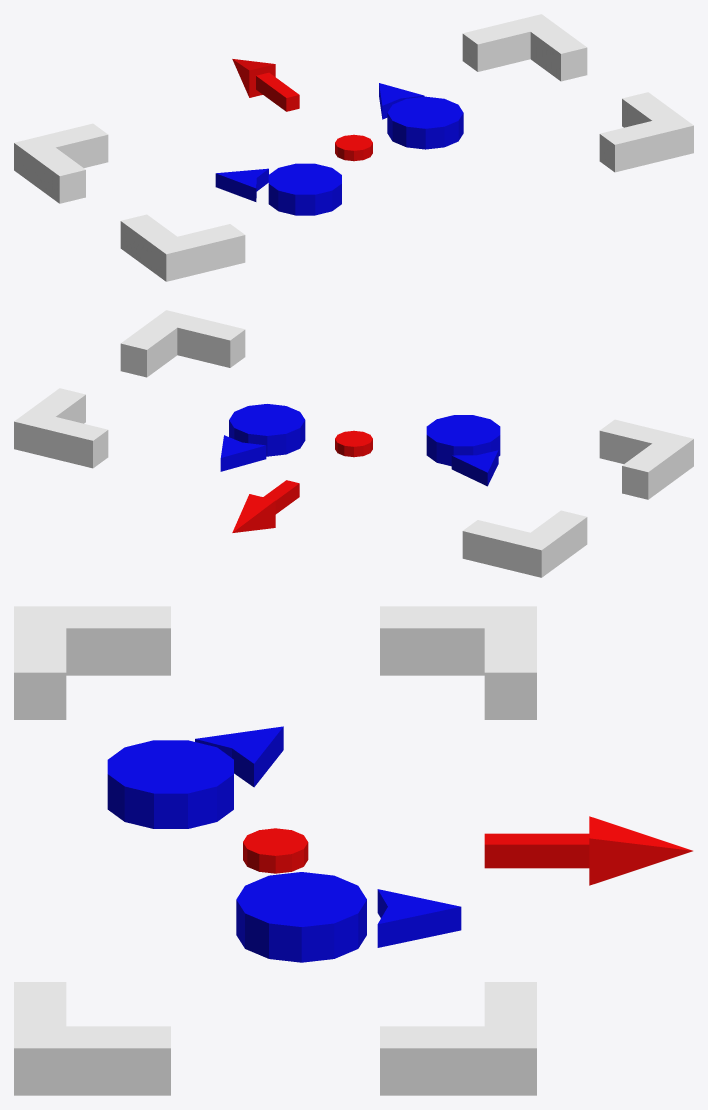
3 renders of one model, top to bottom at view 1: azimuth 30°, elevation 25°; view 2: azimuth 150°, elevation 25°; view 3: azimuth 270°, elevation 25°, orthographic. The views are drawn at different scales.
Parts seen in each view (by area): view 1: fo_i_frame_Cube.003, Plane.013_Plane.023, Plane.015_Plane.025, arrow_Cube.004, Plane.014_Plane.024; view 2: fo_i_frame_Cube.003, Plane.015_Plane.025, Plane.013_Plane.023, arrow_Cube.004, Plane.014_Plane.024; view 3: fo_i_frame_Cube.003, Plane.015_Plane.025, Plane.013_Plane.023, arrow_Cube.004, Plane.014_Plane.024.
Part boxes in pixels (<box>): fo_i_frame_Cube.003: <box>14,14,693,281</box>; Plane.013_Plane.023: <box>215,163,341,215</box>; Plane.015_Plane.025: <box>379,83,463,149</box>; arrow_Cube.004: <box>232,59,299,111</box>; Plane.014_Plane.024: <box>335,134,372,161</box>; fo_i_frame_Cube.003: <box>14,310,693,577</box>; Plane.015_Plane.025: <box>220,404,305,471</box>; Plane.013_Plane.023: <box>426,415,500,486</box>; arrow_Cube.004: <box>232,480,299,532</box>; Plane.014_Plane.024: <box>335,430,372,457</box>; fo_i_frame_Cube.003: <box>14,606,536,1095</box>; Plane.015_Plane.025: <box>236,872,461,962</box>; Plane.013_Plane.023: <box>107,726,283,828</box>; arrow_Cube.004: <box>484,816,692,885</box>; Plane.014_Plane.024: <box>243,828,308,873</box>.
Size of the model in its own units: 4 by 0.2 by 2.6.
